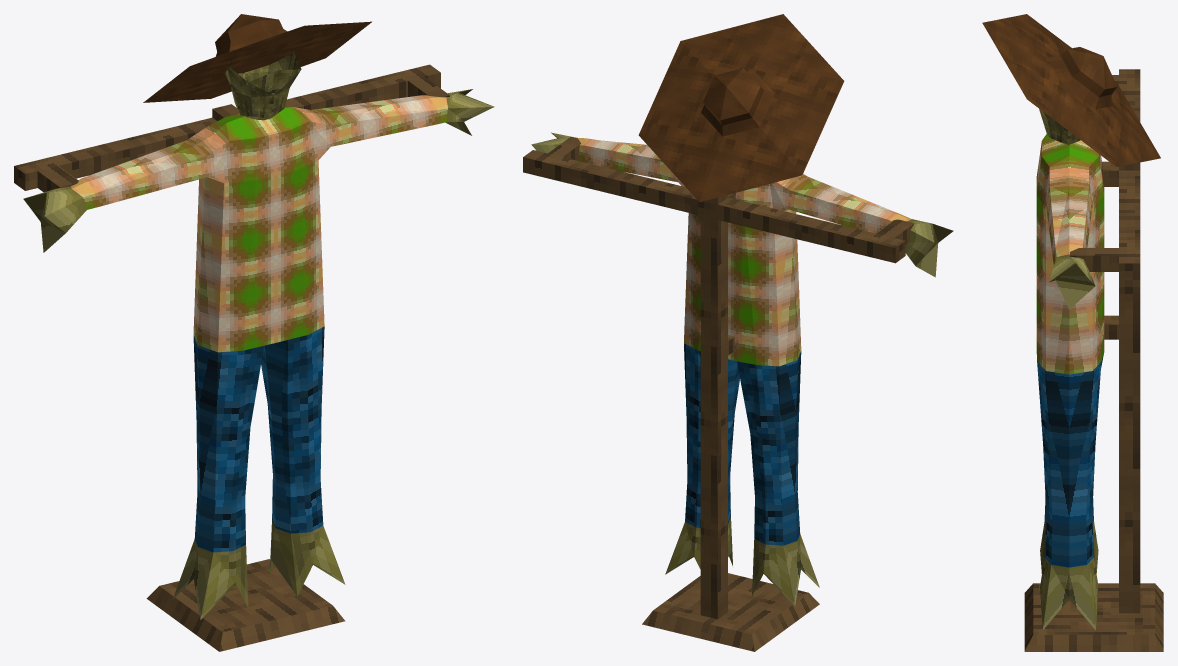
Rendered from scarecrow.obj.
3 renders of one model, left to right at view 1: azimuth 30°, elevation 25°; view 2: azimuth 150°, elevation 25°; view 3: azimuth 270°, elevation 25°, orthographic. The views are drawn at different scales.
Visible parts, largest first — view 1: stand_Material, stand_jeans, stand_wood, stand_wheat, stand_hat; view 2: stand_wood, stand_hat, stand_Material, stand_jeans, stand_wheat; view 3: stand_wood, stand_Material, stand_hat, stand_jeans, stand_wheat.
Boxes of the visible parts, x1=… form: stand_Material: x1=71, y1=95, x2=447, y2=352; stand_jeans: x1=193, y1=326, x2=324, y2=552; stand_wood: x1=14, y1=64, x2=449, y2=651; stand_wheat: x1=23, y1=51, x2=494, y2=619; stand_hat: x1=143, y1=14, x2=371, y2=102; stand_wood: x1=523, y1=137, x2=914, y2=651; stand_hat: x1=638, y1=14, x2=844, y2=202; stand_Material: x1=577, y1=138, x2=911, y2=366; stand_jeans: x1=684, y1=343, x2=801, y2=545; stand_wheat: x1=531, y1=132, x2=953, y2=606; stand_wood: x1=1024, y1=69, x2=1163, y2=651; stand_Material: x1=1036, y1=134, x2=1104, y2=374; stand_hat: x1=982, y1=14, x2=1160, y2=166; stand_jeans: x1=1037, y1=353, x2=1103, y2=567; stand_wheat: x1=1039, y1=109, x2=1098, y2=630.
Size of the model in its own units: 3.57 by 4.75 by 1.3.
